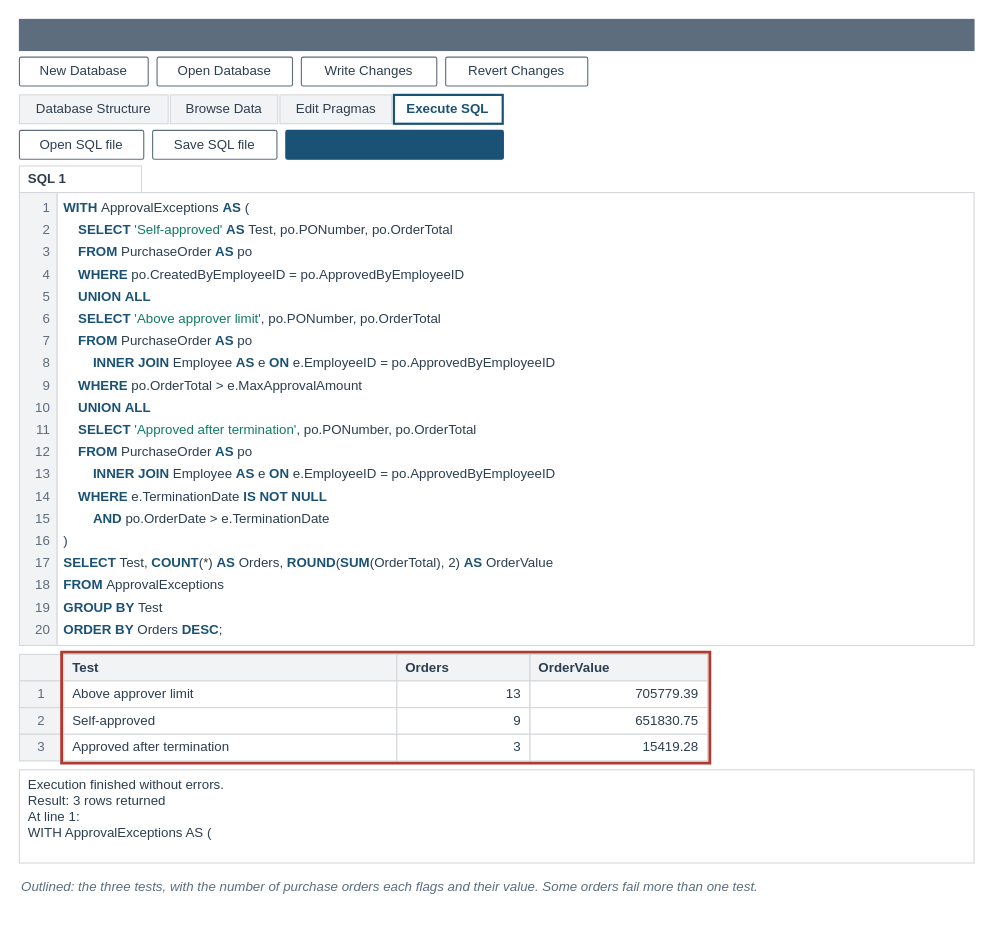
The diagram is 993 pixels wide and 938 high, and some of its shapes have lost their labels. Here are the shapes that lost their labels. From the top down, the box of each, then its label:
(18, 18, 974, 51): DB Browser for SQLite - CharlesRiver_Work.sqlite
(285, 129, 503, 159): ▶ Execute all/selected SQL
